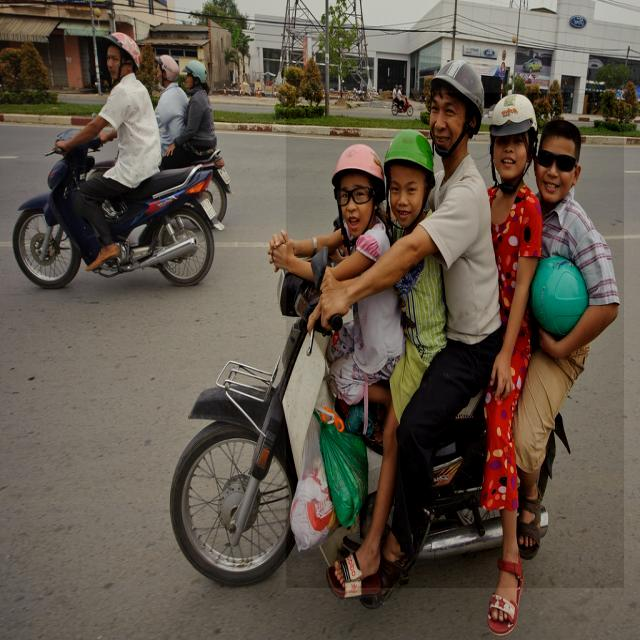Overloading: (286, 93, 624, 588)
